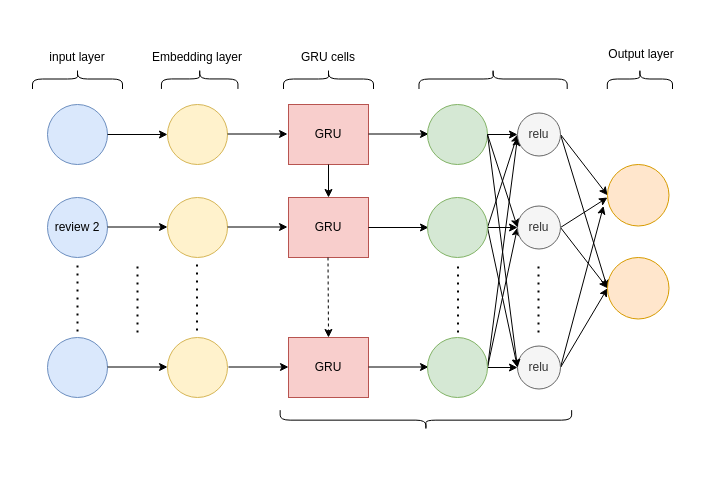
The diagram is 718 pixels wide and 484 high, and some of its shapes have lost their labels. The shapes that lost their labels are listed below. From the top down, each one's centre as x and y in pixels, then its label:
At (x=492, y=78): "Fully-Connected Layer".
At (x=77, y=134): "review 1".
At (x=77, y=367): "review m".
At (x=425, y=419): "Hidden layer".
